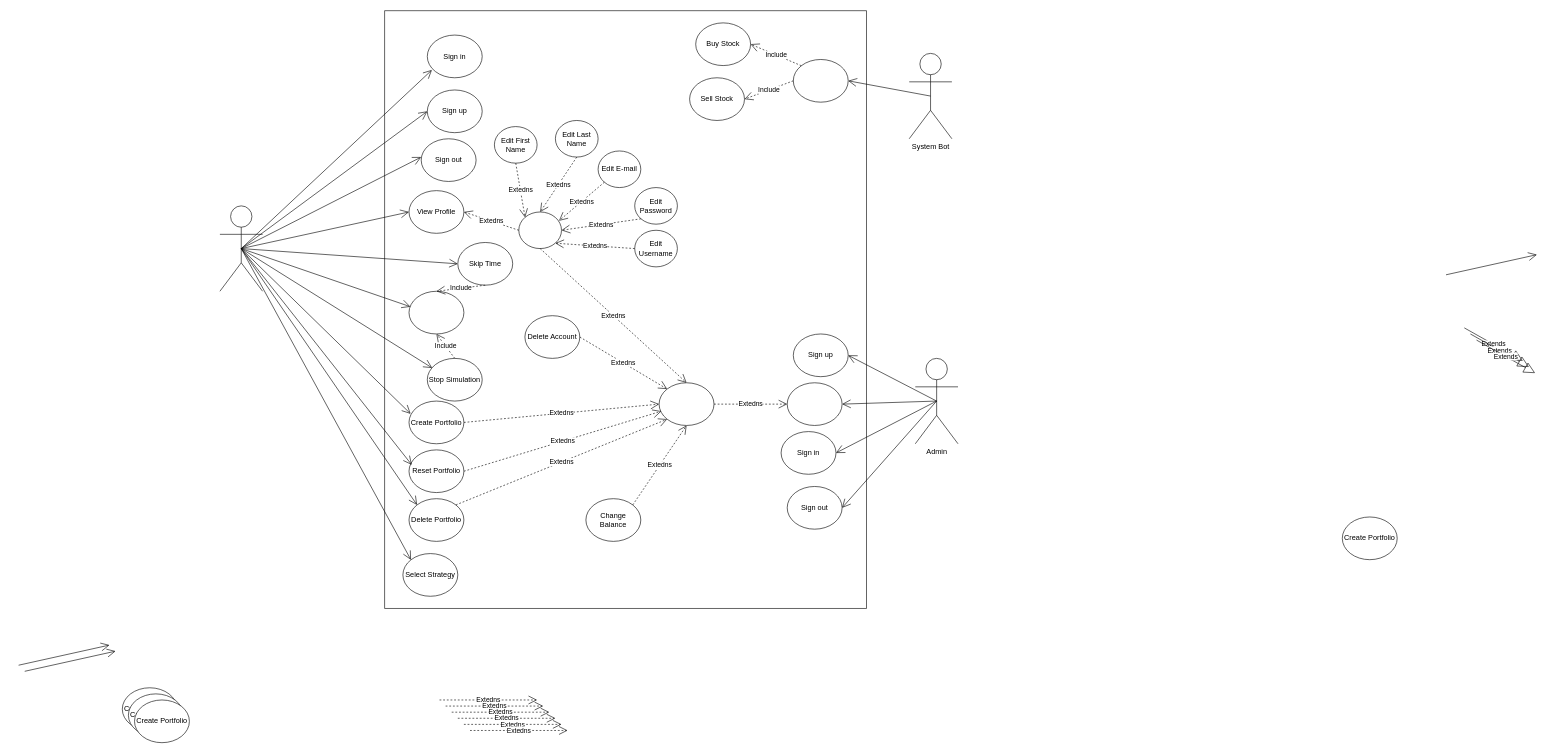
The diagram is 1557 pixels wide and 753 high, and some of its shapes have lost their labels. The shapes that lost their labels are listed below. From the top down, each one's box as (x1, y1, x2, y2) in pixels, then its label:
(793, 59, 848, 102): Predict Price
(219, 205, 263, 291): User
(518, 211, 562, 249): Edit Profile
(408, 291, 464, 334): Start Simulation
(658, 382, 714, 425): Select Account
(787, 382, 842, 425): View Accounts
